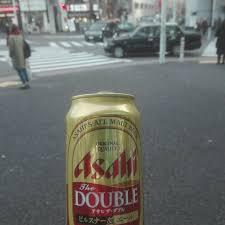beer: (64, 92, 146, 225)
